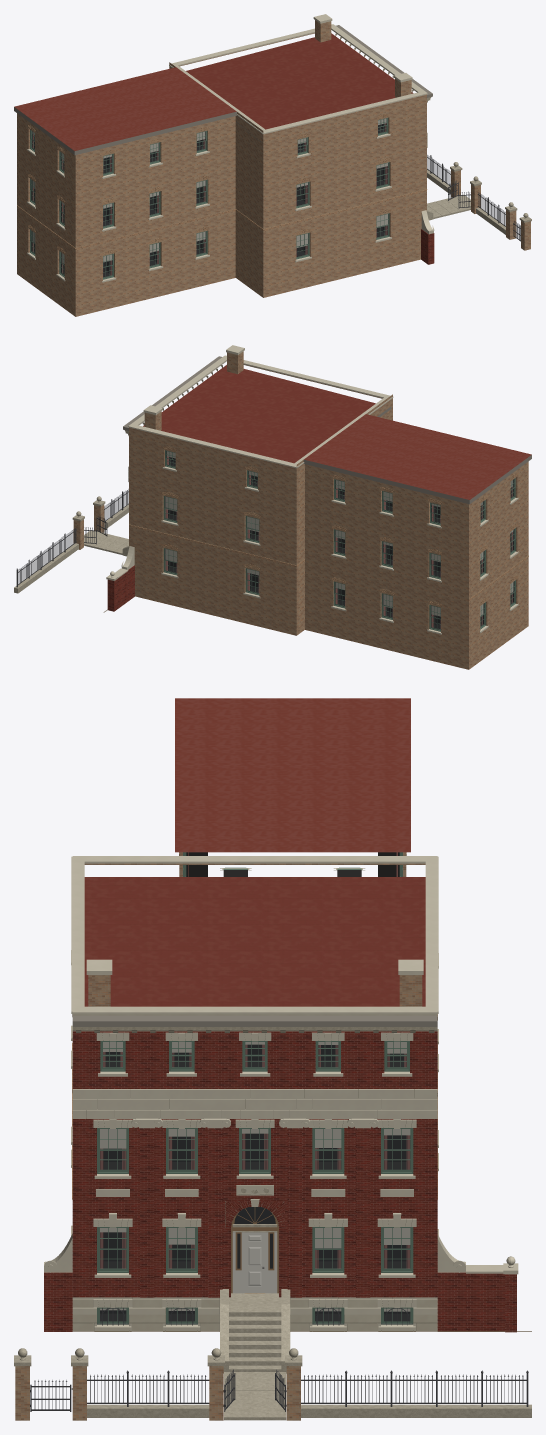
Rendered from robbins_house_2126_prairie__completed.glb.
3 renders of one model, top to bottom at view 1: azimuth 30°, elevation 25°; view 2: azimuth 150°, elevation 25°; view 3: azimuth 270°, elevation 25°, orthographic. The views are drawn at different scales.
Parts seen in each view (by area): view 1: robbins_house_2126_prairie__completed; view 2: robbins_house_2126_prairie__completed; view 3: robbins_house_2126_prairie__completed.
Boxes of the visible parts, <box> form: robbins_house_2126_prairie__completed: <box>14,14,531,316</box>; robbins_house_2126_prairie__completed: <box>14,345,531,669</box>; robbins_house_2126_prairie__completed: <box>14,698,531,1420</box>.
Bounding box in the file's own units: 31.3 × 13.07 × 17.3.
27 materials, 16 textured.
